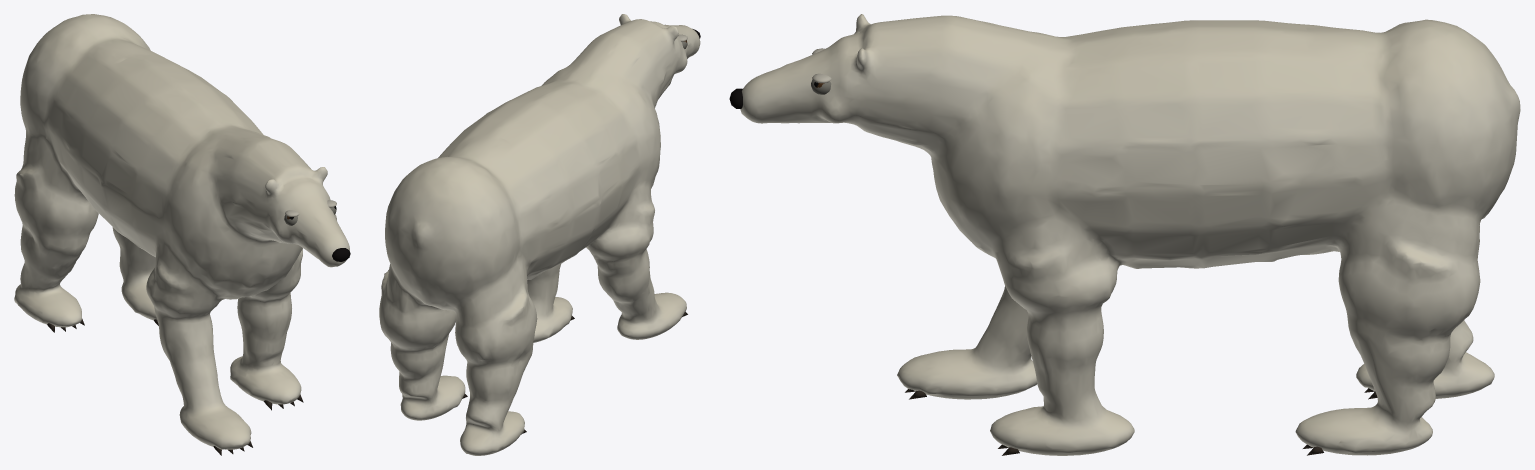
File: UrsusMaritimus.fbx
3 views of the same model, side by side, from view 1: azimuth 30°, elevation 25°; view 2: azimuth 150°, elevation 25°; view 3: azimuth 270°, elevation 25° (orthographic). The views are drawn at different scales.
Visible parts, largest first — view 1: UrsusMaritimus; view 2: UrsusMaritimus; view 3: UrsusMaritimus.
Part boxes in pixels (<box>): UrsusMaritimus: <box>14,14,350,455</box>; UrsusMaritimus: <box>379,14,700,455</box>; UrsusMaritimus: <box>729,14,1520,455</box>.
Bounding box in the file's own units: 0.5423 × 1.03 × 1.84.
